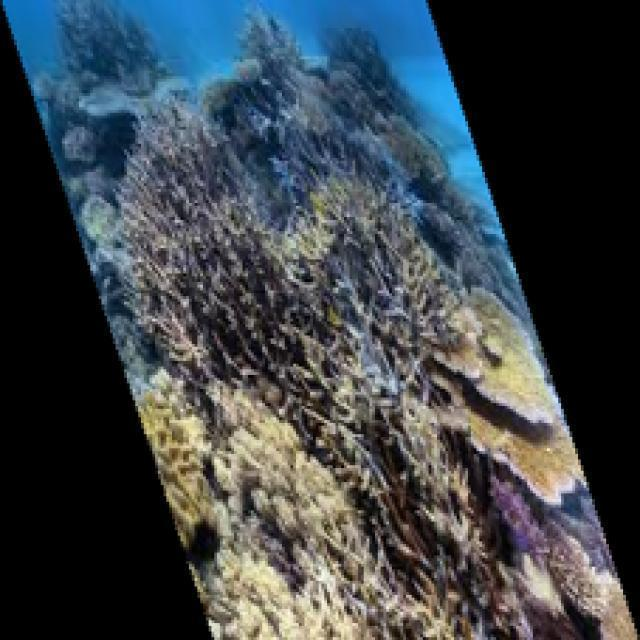Dead Coral: (128, 54, 323, 400), (283, 164, 451, 455), (359, 379, 520, 586)
